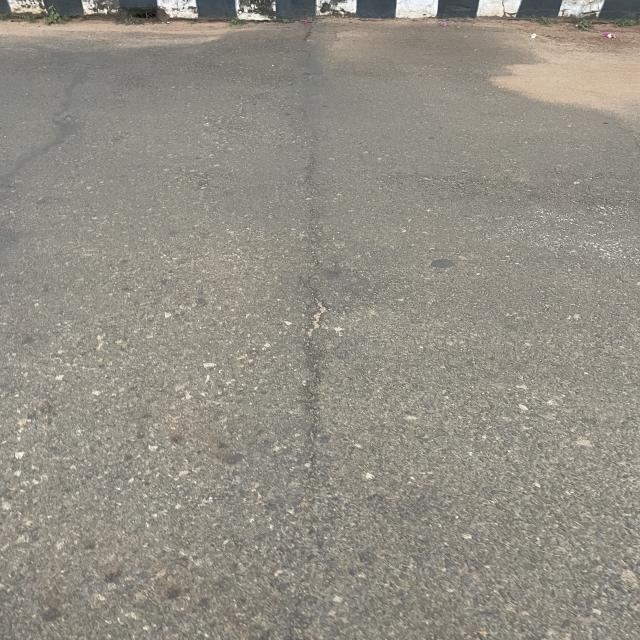D43: (495, 162, 640, 268), (280, 267, 367, 408)
